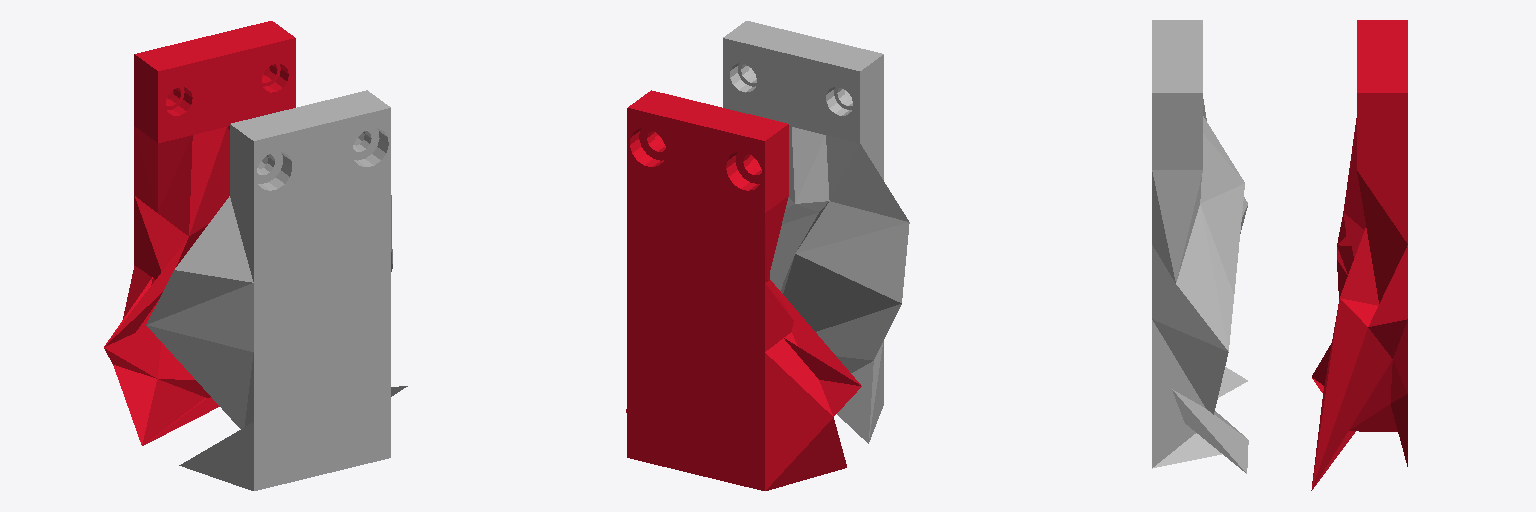
robot.urdf — wsg_32_description:
<robot name="wsg_32_description">
  <link name="world">
    <inertial> <origin rpy="0 0 0" xyz="0 0 0" /> <mass value="1E-10" /> <inertia ixx="0" ixy="0" ixz="0" iyy="0" iyz="0" izz="0" /></inertial>
  </link>

  <link name="prismatic_x">
    <inertial> <origin rpy="0 0 0" xyz="0 0 0" /> <mass value="1E-10" /> <inertia ixx="0" ixy="0" ixz="0" iyy="0" iyz="0" izz="0" /></inertial>
  </link>
  <link name="prismatic_y">
    <inertial> <origin rpy="0 0 0" xyz="0 0 0" /> <mass value="1E-10" /> <inertia ixx="0" ixy="0" ixz="0" iyy="0" iyz="0" izz="0" /></inertial>
  </link>
  <link name="prismatic_z">
    <inertial> <origin rpy="0 0 0" xyz="0 0 0" /> <mass value="1E-10" /> <inertia ixx="0" ixy="0" ixz="0" iyy="0" iyz="0" izz="0" /></inertial>
  </link>
  <link name="revolute_z">
    <inertial> <origin rpy="0 0 0" xyz="0 0 0" /> <mass value="1E-10" /> <inertia ixx="0" ixy="0" ixz="0" iyy="0" iyz="0" izz="0" /></inertial>
  </link>

  <joint name="x_to_world" type="prismatic">
    <parent link="world" />
    <child link="prismatic_x" />
    <axis xyz="1 0 0" />
    <limit lower="-10" upper="10" velocity="10.0" />
    <origin rpy="0 0 0" xyz="0 0 0" />
  </joint>

  <joint name="y_to_x" type="prismatic">
    <parent link="prismatic_x" />
    <child link="prismatic_y" />
    <axis xyz="0 1 0" />
    <limit lower="-10" upper="10" velocity="10.0" />
    <origin rpy="0 0 0" xyz="0 0 0" />
  </joint>
  <joint name="z_to_y" type="prismatic">
    <parent link="prismatic_y" />
    <child link="prismatic_z" />
    <axis xyz="0 0 1" />
    <limit lower="-10" upper="10" velocity="10.0" />
    <origin rpy="0 0 0" xyz="0 0 0" />
  </joint>
  <joint name="rev_z_to_prism_z" type="continuous">
    <parent link="prismatic_z" />
    <child link="revolute_z" />
    <axis xyz="0 0 1" />
    <limit effort="100000" lower="-3.14" upper="3.14" velocity="1" />
    <origin rpy="0 0 0" xyz="0 0 0" />
  </joint>
  
  <joint name="hand_to_z" type="fixed">
    <parent link="revolute_z" />
    <child link="hand_link" />
    <origin rpy="3.1415926535 0 0" xyz="0 0 0" />
  </joint>


  <link name="hand_link">
    <inertial>
      <origin rpy="0 0 0" xyz="0 0 0" />
      <mass value="0.19187770361295" />
      <inertia ixx="0.000259095961095666" ixy="-4.42589635811335E-08" ixz="-8.19503266406055E-09" iyy="6.70924748330843E-05" iyz="-6.65748470338111E-06" izz="0.000219527960705521" />
    </inertial>

    <visual>
      <origin rpy="0 0 0" xyz="0 0 0" />
      <geometry>
        <mesh filename="./arm_meshes/hand_link.stl" />
      </geometry>
      <material name="">
        <color rgba="0.792156862745098 0.819607843137255 0.933333333333333 1" />
      </material>
    </visual>
    <collision>
      <origin rpy="0 0 0" xyz="0 0 0" />
      <geometry>
        <mesh filename="./arm_meshes/hand_link.stl" />
      </geometry>
    </collision>
  </link>

  


  <link name="wsg_32_gripper_base_link_gripper_right">
    <inertial>
      <origin rpy="0 0 0" xyz="-2.850603053553E-05 -0.00191114285188175 0.00382933445364996" />
      <mass value="0.5" />
      <inertia ixx="3.06504383705634E-10" ixy="5.74222476890191E-11" ixz="-2.40533503848462E-10" iyy="4.90275789305826E-10" iyz="6.8945176052368E-11" izz="2.18298925049827E-10" />
    </inertial>
    <visual>
      <origin rpy="0 1.57079 0" xyz="-0.00725 0 0.0004" />
      <geometry>
        <mesh filename="./arm_meshes/right_link.stl" />
      </geometry>
      <material name="">
        <color rgba="0.792156862745098 0.819607843137255 0.933333333333333 1" />
      </material>
    </visual>
    <collision>
      <origin rpy="0 1.57079 0" xyz="-0.00725 0 0.0004" />
      <geometry>
        <mesh filename="./arm_meshes/right_link.stl" />
      </geometry>
    </collision>
  </link>
  <joint name="wsg_32_gripper_base_joint_gripper_right" type="prismatic">
    <origin rpy="3.1416 -1.5708 0" xyz="-0.0003903 -0.009 0.069014" />
    <parent link="hand_link" />
    <child link="wsg_32_gripper_base_link_gripper_right" />
    <axis xyz="0 -1 0" />
    <limit effort="100" lower="-0.028" upper="0" velocity="0" />
  </joint>





  <link name="wsg_32_gripper_base_link_gripper_left">
    <inertial>
      <origin rpy="-1.57079 3.14159 -1.57079" xyz="-2.72000777333109E-05 -0.00460993992652343 -0.00191114282807962" />
      <mass value="0.5" />
      <inertia ixx="3.06504383705634E-10" ixy="2.40533503848236E-10" ixz="5.74222476899625E-11" iyy="2.18298925050368E-10" iyz="-6.89451760534347E-11" izz="4.90275789305286E-10" />
    </inertial>
    <visual>
      <origin rpy="-1.57079 3.14159  -1.57079" xyz="-0.00725 0 0.0004" />
      <geometry>
        <mesh filename="./arm_meshes/left_link.stl" />
      </geometry>
      <material name="">
        <color rgba="0.792156862745098 0.819607843137255 0.933333333333333 1" />
      </material>
    </visual>
    <collision>
      <origin rpy="-1.57079 3.14159  -1.57079" xyz="-0.00725 0 0.0004" />
      <geometry>
        <mesh filename="./arm_meshes/left_link.stl" />
      </geometry>
    </collision>
  </link>
  <joint name="wsg_32_gripper_base_joint_gripper_left" type="prismatic">
    <origin rpy="-1.5708 -1.5708 0" xyz="-0.0003903 0.009 0.069014" />
    <parent link="hand_link" />
    <child link="wsg_32_gripper_base_link_gripper_left" />
    <axis xyz="0 0 1" />
    <limit effort="100" lower="0" upper="0.028" velocity="0" />
  </joint>


  

  <link name="left_finger_link">
    <inertial>
      <origin rpy="0 0 0" xyz="0 0 0" />
      <mass value="0.01" />
      <inertia ixx="3.06504383705634E-10" ixy="2.40533503848236E-10" ixz="5.74222476899625E-11" iyy="2.18298925050368E-10" iyz="-6.89451760534347E-11" izz="4.90275789305286E-10" />
    </inertial>
    <visual>
      <origin rpy="0 0 0" xyz="-0.01 0 0.00" />
      <geometry>
        <mesh filename="./arm_meshes/left_finger.stl" />
      </geometry>
      <material name="det">
        <color rgba="0.75 0.75 0.75 1" />
      </material>
    </visual>
    <collision>
      <origin rpy="0 0 0" xyz="-0.01 0 0.00" />
      <geometry>
        <mesh filename="./arm_meshes/left_finger.stl" />
      </geometry>
    </collision>
  </link>
  <joint name="left_finger_joint" type="fixed">
    <origin rpy="0 -1.57079 -1.57079" xyz="0.00755 0.0 0.0055" />
    <parent link="wsg_32_gripper_base_link_gripper_left" />
    <child link="left_finger_link" />
  </joint>


  <link name="right_finger_link">
    <inertial>
      <origin rpy="0 0 0" xyz="0 0 0" />
      <mass value="0.01" />
      <inertia ixx="3.06504383705634E-10" ixy="2.40533503848236E-10" ixz="5.74222476899625E-11" iyy="2.18298925050368E-10" iyz="-6.89451760534347E-11" izz="4.90275789305286E-10" />
    </inertial>
    <visual>
      <origin rpy="0 0 0" xyz="-0.00 0 0.00" />
      <geometry>
        <mesh filename="./arm_meshes/right_finger.stl" />
      </geometry>
      <material name="det2">
        <color rgba="0.9 0.1 0.2 1" />
      </material>
    </visual>
    <collision>
      <origin rpy="0 0 0" xyz="-0.00 0 0.00" />
      <geometry>
        <mesh filename="./arm_meshes/right_finger.stl" />
      </geometry>
    </collision>
  </link>
  <joint name="right_finger_joint" type="fixed">
    <origin rpy="0 3.14159 -1.57079" xyz="0.00755 -0.0045 0" />
    <parent link="wsg_32_gripper_base_link_gripper_right" />
    <child link="right_finger_link" />
  </joint>


</robot>

--- Render facts (derived) ---
3 views of the same robot in one strip: view 1: azimuth 30°, elevation 25°; view 2: azimuth 150°, elevation 25°; view 3: azimuth 270°, elevation 25° (orthographic).
Robot: wsg_32_description — 10 links, 9 joints (1 continuous, 5 prismatic, 3 fixed); root link world; default pose: all joints at 0.
Links seen in each view (by area): view 1: left_finger_link, right_finger_link; view 2: right_finger_link, left_finger_link; view 3: left_finger_link, right_finger_link.
Boxes of the visible links, left/top/right/bottom form: left_finger_link: left=146, top=90, right=407, bottom=490; right_finger_link: left=104, top=21, right=295, bottom=445; right_finger_link: left=626, top=90, right=861, bottom=490; left_finger_link: left=723, top=21, right=909, bottom=443; left_finger_link: left=1152, top=20, right=1248, bottom=473; right_finger_link: left=1311, top=20, right=1407, bottom=490.
Bounding box of the posed robot: 0.0574 × 0.045 × 0.073 m (x, y, z).
2 mesh visuals loaded from 5 distinct referenced files (2 binary STL); not drawn: 3 (reference not matched to a file when rendering).